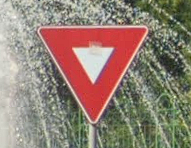cedeaza: (35, 24, 149, 124)
